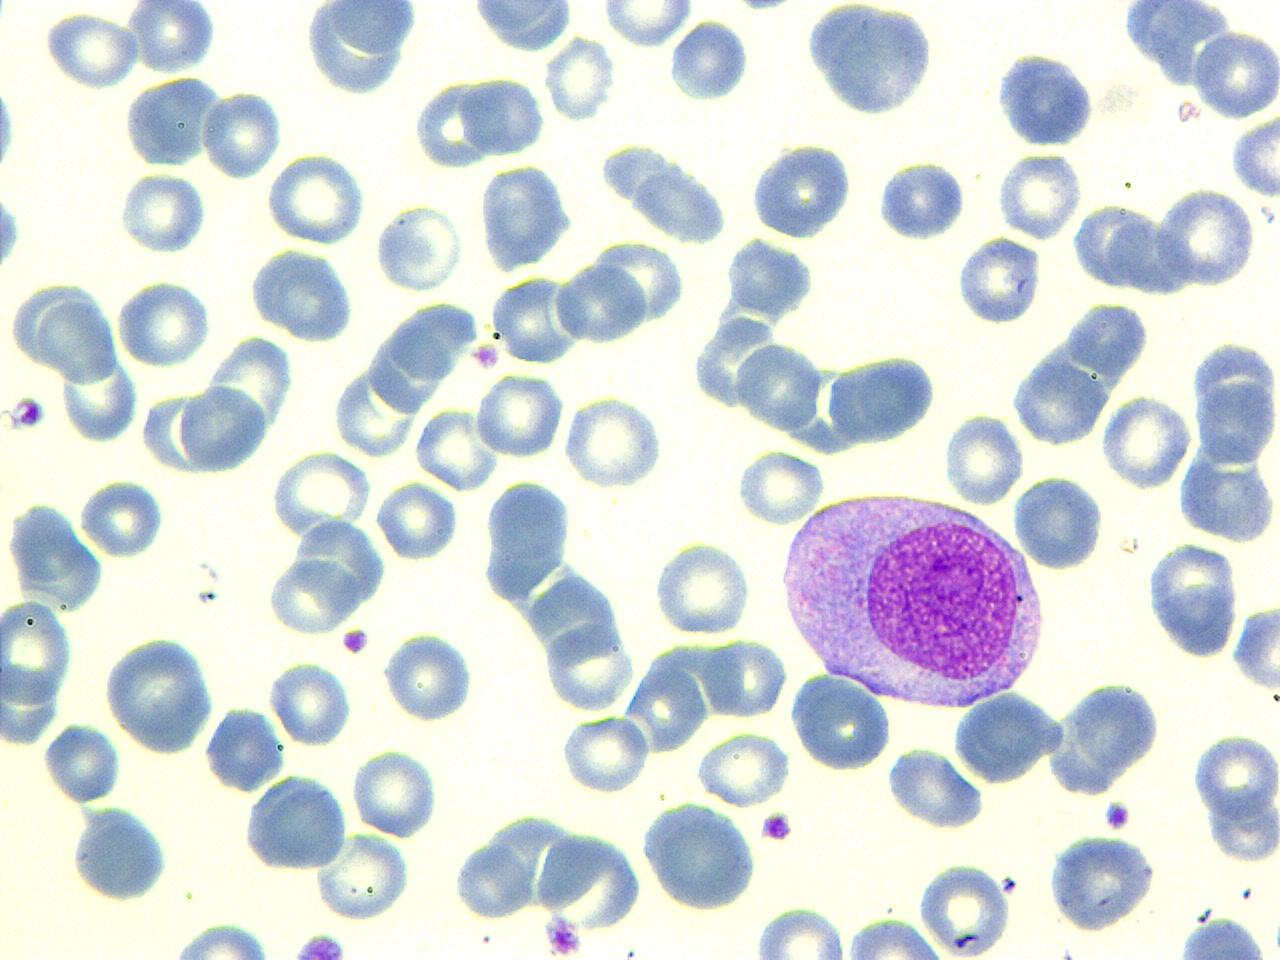Platelets: (118, 170, 213, 256), (42, 718, 127, 802), (5, 392, 49, 433), (543, 912, 582, 958), (0, 81, 19, 172), (0, 194, 22, 272), (291, 931, 348, 960), (760, 808, 794, 844), (339, 625, 371, 657), (1103, 798, 1133, 832), (734, 0, 792, 15), (1059, 944, 1075, 960)
RBC: (176, 331, 298, 474), (991, 33, 1099, 154), (1188, 338, 1280, 472), (0, 594, 78, 745), (786, 668, 896, 772), (69, 796, 176, 902), (829, 348, 944, 444), (1154, 186, 1258, 290), (562, 390, 666, 490), (652, 537, 754, 637), (915, 858, 1014, 958), (1098, 389, 1194, 492), (265, 150, 368, 246), (274, 449, 376, 541), (486, 274, 586, 367), (312, 831, 412, 922), (114, 278, 213, 368), (736, 335, 824, 436), (380, 631, 475, 724), (373, 198, 465, 294), (540, 621, 636, 712), (993, 148, 1085, 242), (958, 228, 1047, 325), (115, 167, 210, 256), (352, 744, 440, 840), (1193, 24, 1279, 122), (58, 345, 141, 446), (40, 8, 142, 90), (474, 369, 564, 461), (1190, 730, 1278, 822), (458, 71, 548, 160), (694, 728, 792, 809), (942, 410, 1023, 506), (560, 712, 652, 796), (700, 635, 789, 720), (268, 659, 352, 749), (412, 75, 492, 169), (732, 446, 826, 526), (413, 404, 499, 491), (374, 478, 460, 563), (79, 476, 166, 560), (202, 90, 282, 180), (41, 720, 123, 804), (38, 300, 118, 386), (126, 1, 218, 74), (544, 33, 616, 124), (752, 903, 848, 959), (1230, 598, 1280, 696), (842, 913, 948, 959), (159, 920, 283, 958), (600, 0, 694, 48)
WBC: (774, 488, 1054, 712), (331, 291, 486, 458), (448, 808, 639, 930), (1007, 297, 1153, 452), (1115, 0, 1280, 121), (175, 330, 299, 477), (802, 0, 940, 121), (1046, 676, 1166, 800), (102, 631, 220, 755), (639, 796, 762, 913), (272, 519, 388, 634), (1044, 828, 1160, 936), (3, 498, 109, 615), (1143, 537, 1243, 661), (1195, 724, 1280, 868), (0, 594, 79, 748), (301, 0, 423, 99), (482, 472, 576, 600), (950, 686, 1065, 789), (240, 770, 352, 874), (822, 349, 943, 445), (748, 137, 858, 242), (786, 668, 897, 772), (245, 244, 359, 345), (67, 800, 175, 906), (992, 48, 1102, 152), (477, 159, 574, 276), (1193, 340, 1277, 474), (1154, 184, 1260, 289), (1174, 440, 1278, 546), (1010, 471, 1108, 574), (120, 73, 223, 170), (917, 856, 1014, 958), (885, 743, 985, 833), (994, 146, 1084, 243), (872, 156, 970, 244), (956, 231, 1045, 327), (722, 234, 820, 321), (204, 702, 286, 796), (413, 75, 494, 170), (667, 16, 753, 105), (461, 72, 546, 160), (466, 1, 576, 56), (157, 920, 285, 958), (1167, 913, 1275, 958), (1228, 109, 1280, 202), (1230, 600, 1280, 694)
